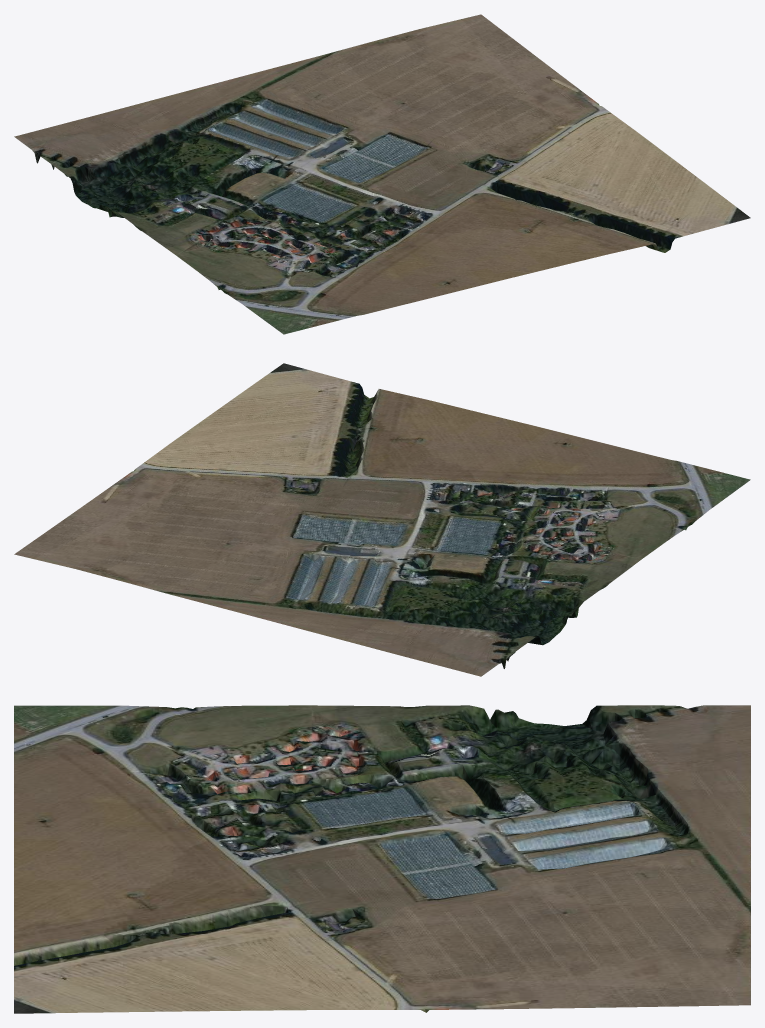
Rendered from map_12_1020_1722.dae.
The picture shows the model from 3 angles, top to bottom: view 1: azimuth 30°, elevation 25°; view 2: azimuth 150°, elevation 25°; view 3: azimuth 270°, elevation 25°; orthographic projection. The views are drawn at different scales.
Visible parts, largest first — view 1: Ter0; view 2: Ter0; view 3: Ter0.
Boxes of the visible parts, <box> form: Ter0: <box>14,14,750,334</box>; Ter0: <box>14,363,750,676</box>; Ter0: <box>14,705,750,1013</box>.
Bounding box in the file's own units: 511 × 511 × 25.1.
Materials: 3 (3 with a texture image).
